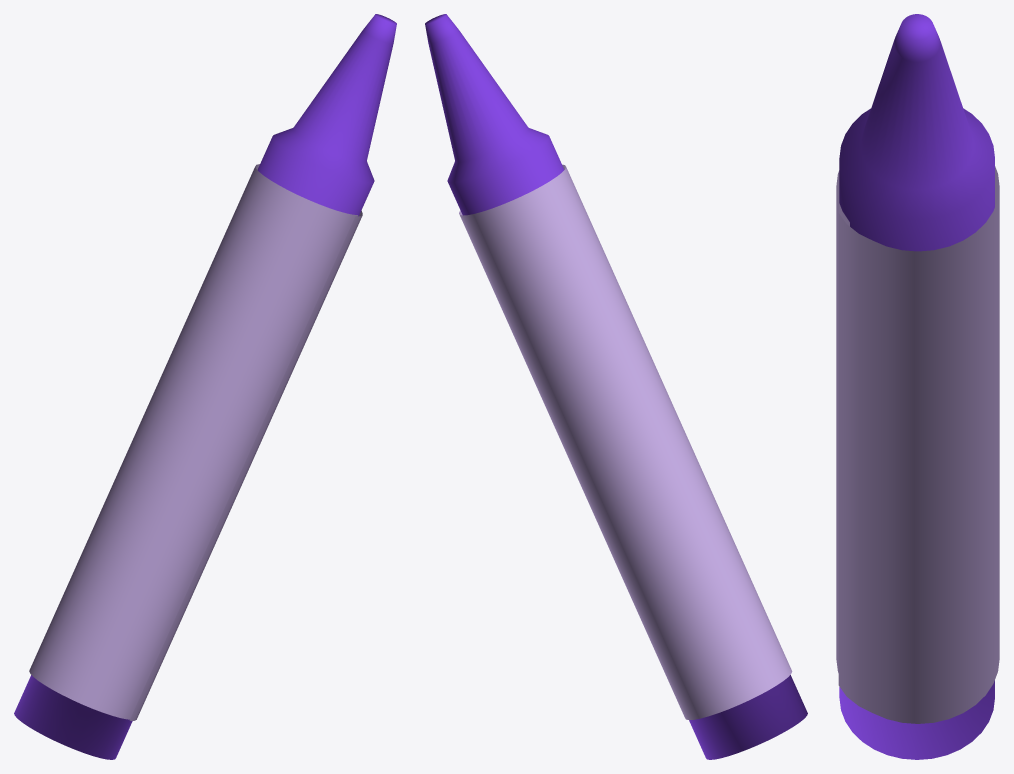
3 renders of one model, left to right at view 1: azimuth 30°, elevation 25°; view 2: azimuth 150°, elevation 25°; view 3: azimuth 270°, elevation 25°, orthographic. The views are drawn at different scales.
Visible parts, largest first — view 1: Purple_Wrapper; view 2: Purple_Wrapper; view 3: Purple_Wrapper.
Boxes of the visible parts, x1=… form: Purple_Wrapper: x1=14, y1=14, x2=396, y2=759; Purple_Wrapper: x1=425, y1=14, x2=807, y2=759; Purple_Wrapper: x1=836, y1=14, x2=999, y2=759.
Bounding box in the file's own units: 0.6441 × 1.1 × 0.1754.
